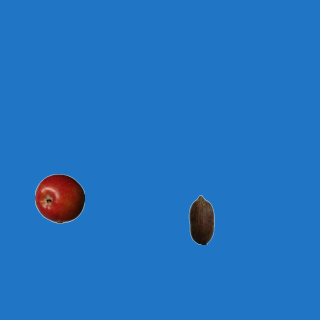Apple Braeburn: (34, 173, 84, 223)
Nut Pecan: (176, 194, 226, 244)
